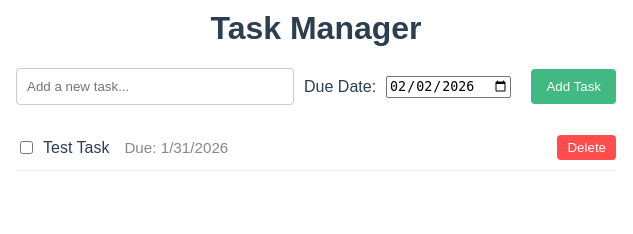
Scenario: TaskManager.vue › adds a new task
In the field with placeholder "Add a new task...": (155, 87) [16,68,294,105], type "New Task"
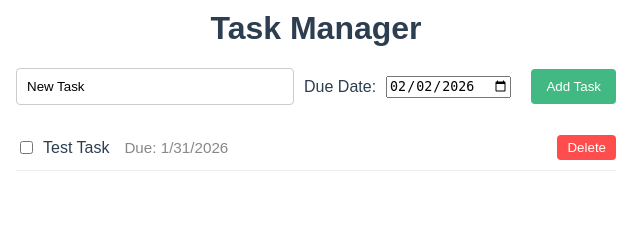
Click the button "Add Task": (574, 87) [531,69,616,104]
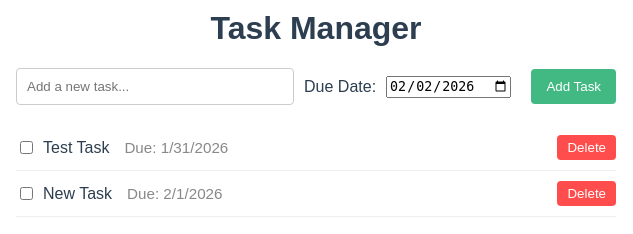
Expected: the text "New Task" is shown, [43,185,112,203]
